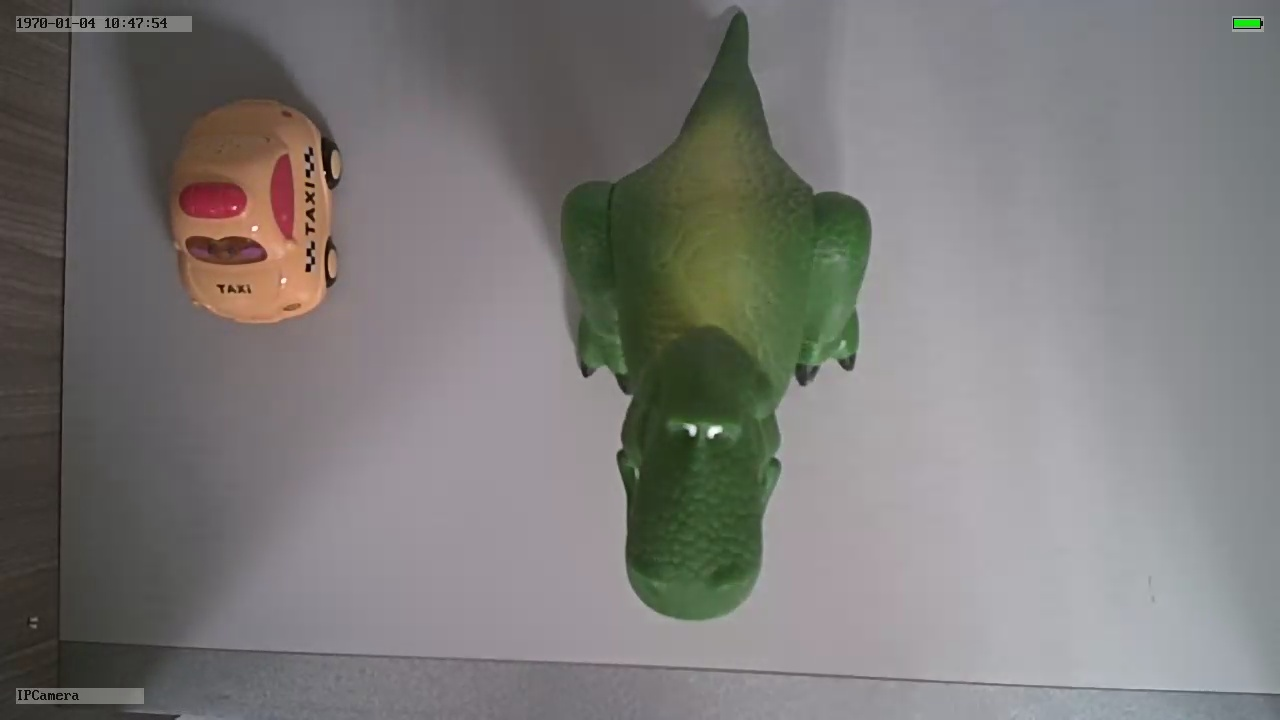car: (166, 94, 347, 328)
rex: (562, 77, 877, 623)
